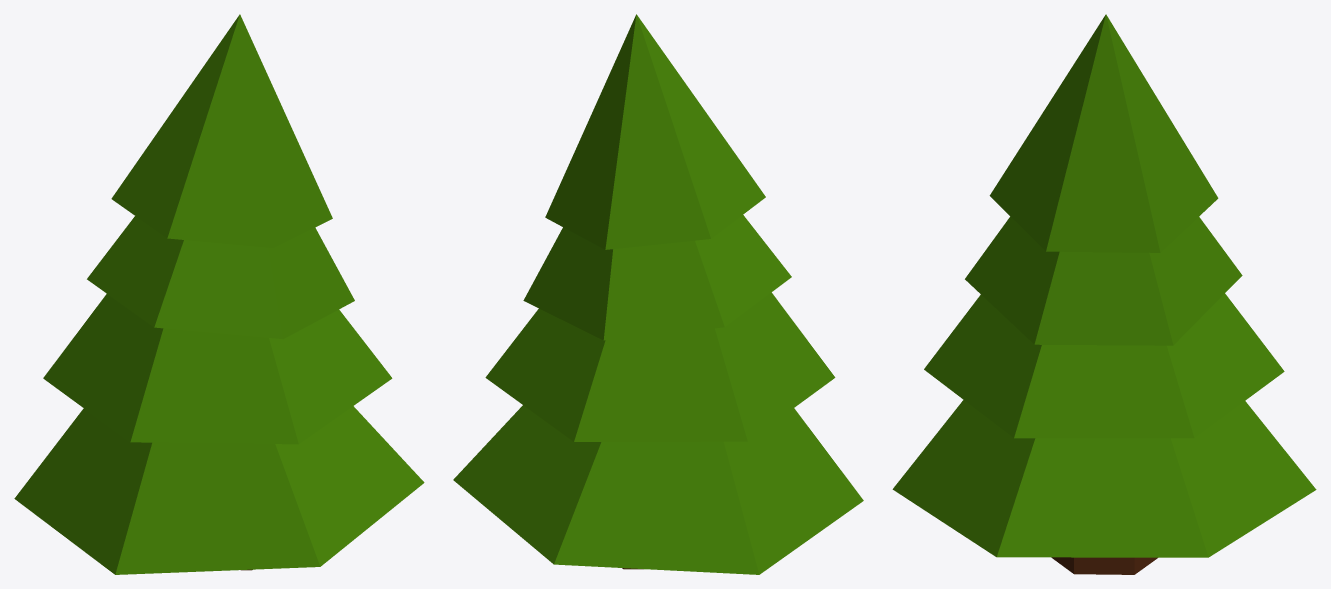
The model's file is T_Pine2.fbx.
The picture shows the model from 3 angles, left to right: view 1: azimuth 30°, elevation 25°; view 2: azimuth 150°, elevation 25°; view 3: azimuth 270°, elevation 25°; orthographic projection. The views are drawn at different scales.
Visible parts, largest first — view 1: Cylinder; view 2: Cylinder; view 3: Cylinder.
Part boxes in pixels (left/top/right/bottom): Cylinder: left=14, top=14, right=424, bottom=574; Cylinder: left=453, top=14, right=863, bottom=574; Cylinder: left=892, top=14, right=1316, bottom=574.
Bounding box in the file's own units: 3.96 × 6.48 × 4.55.
